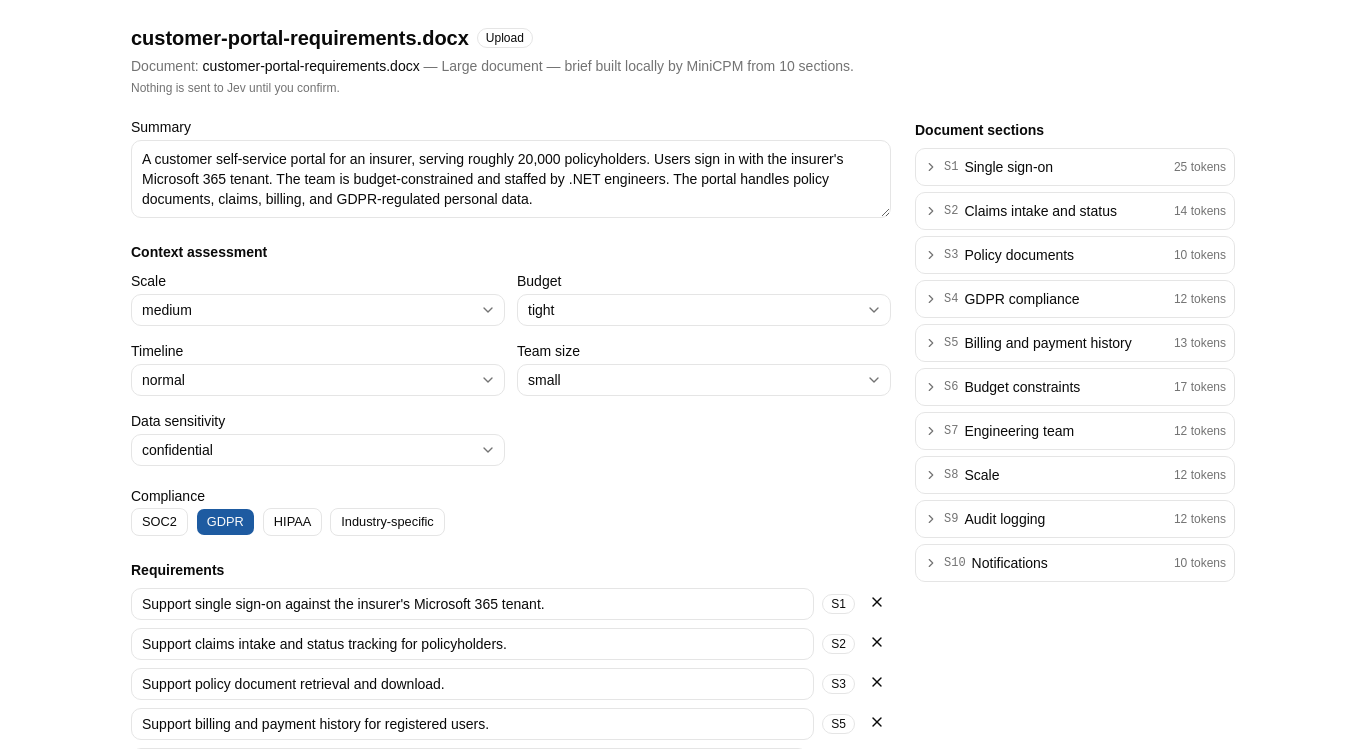
Scenario: Brief screen › shows document sections and citation chips for an upload session
Check: the heading "Document sections" is shown, box [915,122,1044,138]
Step 1. Click the button named "Jump to section S1" → point(839, 604), box [822,594,855,614]
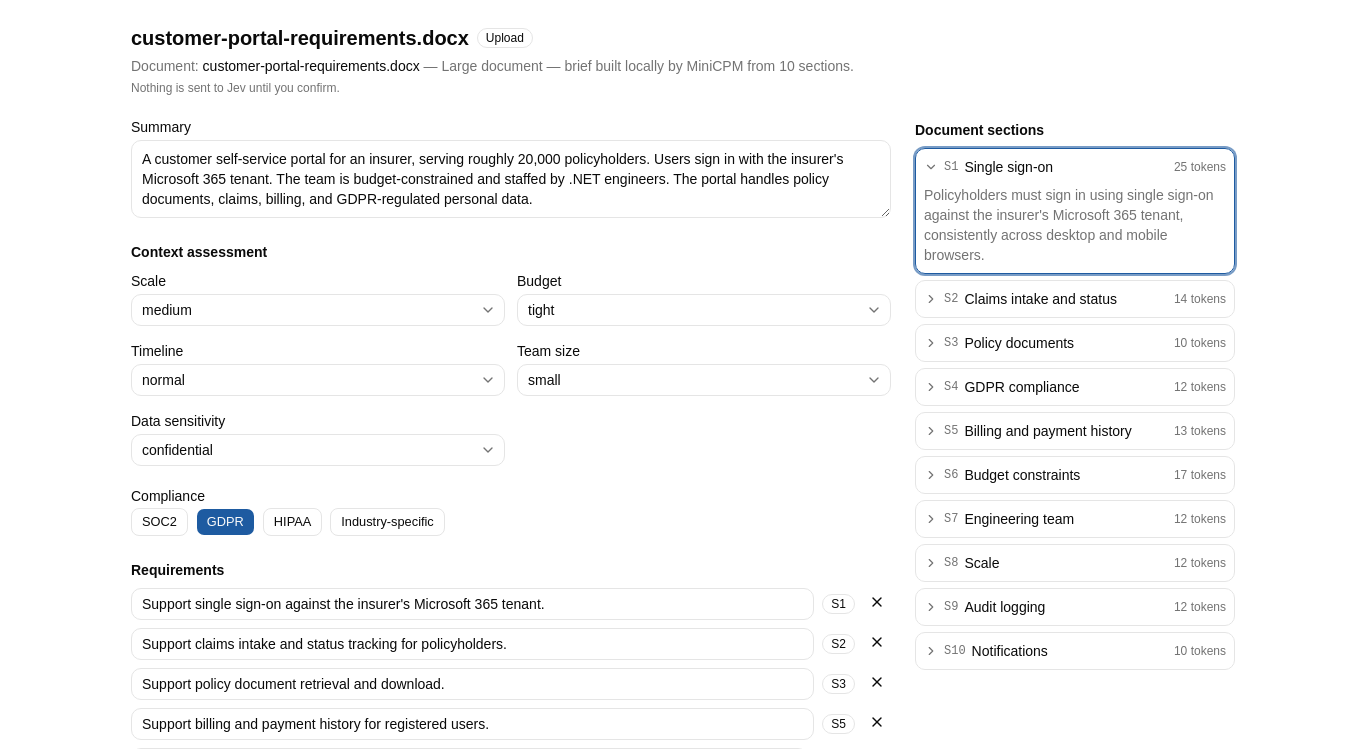
Check: the text "Policyholders must sign in using single sign-on" is shown, box [924,187,1214,263]
